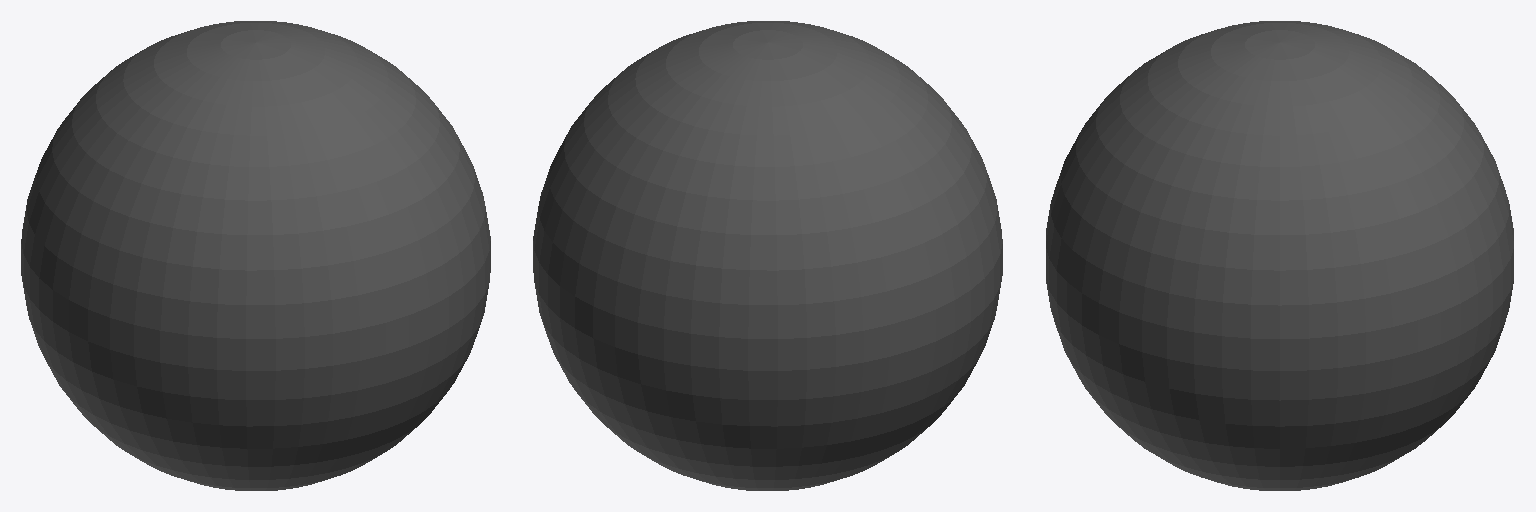
The model's file is skybox.obj.
3 renders of one model, left to right at view 1: azimuth 30°, elevation 25°; view 2: azimuth 150°, elevation 25°; view 3: azimuth 270°, elevation 25°, orthographic.
Parts seen in each view (by area): view 1: PanoSphere_Untitled; view 2: PanoSphere_Untitled; view 3: PanoSphere_Untitled.
Part boxes in pixels (x1,y1,x2,y2): PanoSphere_Untitled: (21,21,490,490); PanoSphere_Untitled: (533,21,1002,490); PanoSphere_Untitled: (1046,21,1513,490).
Size of the model in its own units: 997 by 1000 by 995.